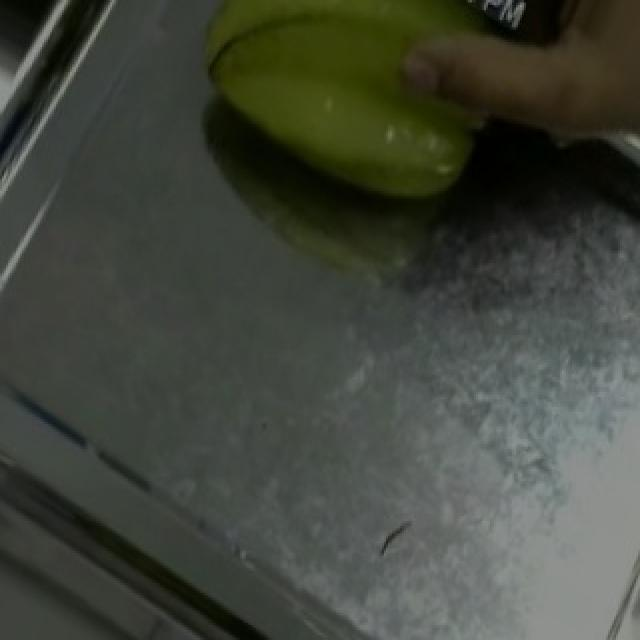fruit: (162, 0, 512, 238)
